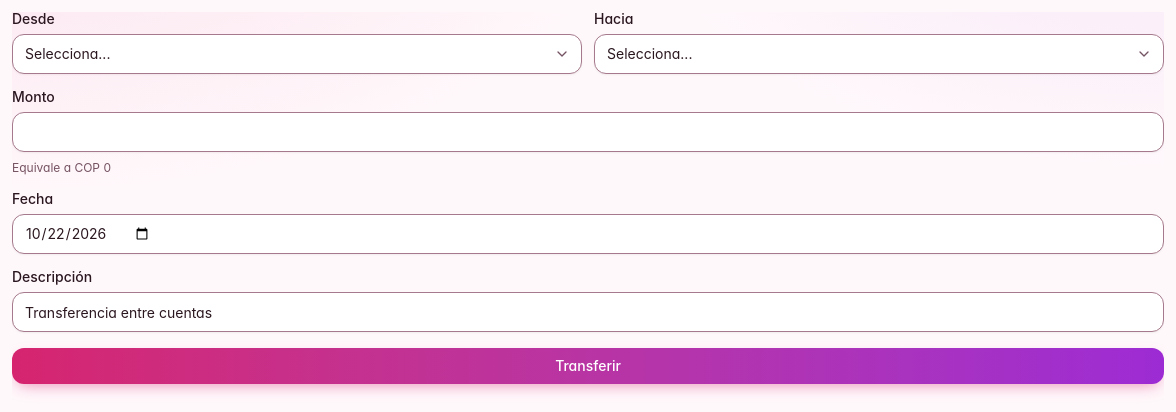
Test case: TransferForm › misma moneda › muestra la equivalencia en la moneda de la cuenta de origen, no en la de la página
Select "Cuenta USD" in the dropdown labelled "Desde": point(297, 54) [12,34,582,74]
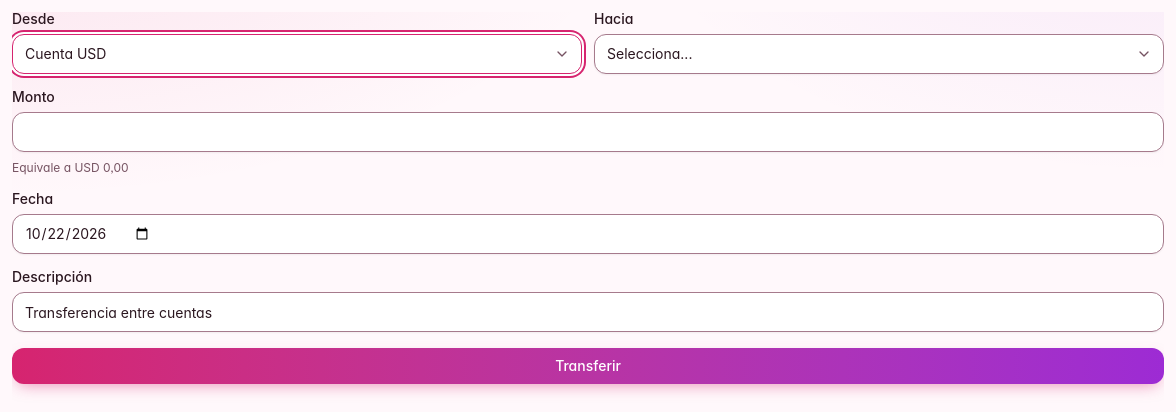
Select "Otra USD" in the dropdown labelled "Hacia": point(879, 54) [594,34,1164,74]
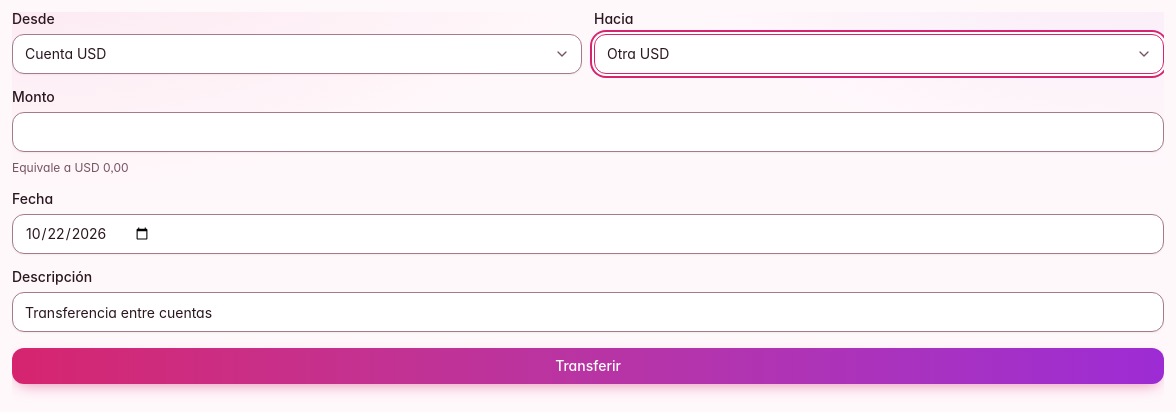
In the field labelled "Monto": point(588, 132) [12,112,1164,152], type "40"
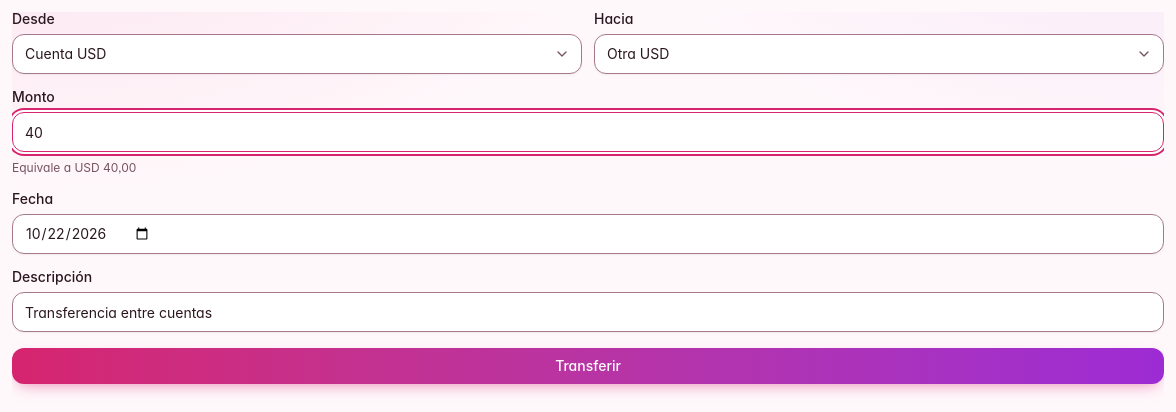
Expected: the text "Equivale a USD 40,00" is shown, [12,160,136,175]
